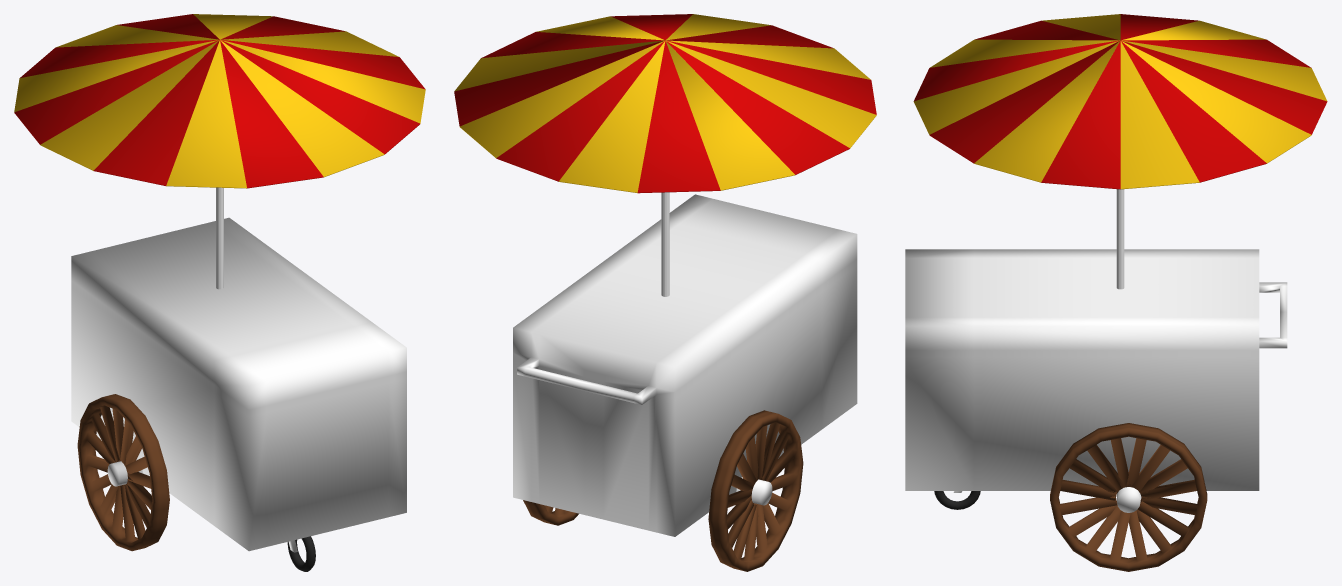
Rendered from Hot Dog Stand.fbx.
3 views of the same model, side by side, from view 1: azimuth 30°, elevation 25°; view 2: azimuth 150°, elevation 25°; view 3: azimuth 270°, elevation 25° (orthographic). The views are drawn at different scales.
Parts seen in each view (by area): view 1: Cube.001; view 2: Cube.001; view 3: Cube.001.
Boxes of the visible parts, box(x1,y1,x2,y2) form: Cube.001: box(14, 14, 425, 571); Cube.001: box(454, 14, 876, 571); Cube.001: box(905, 14, 1327, 571).
Size of the model in its own units: 527 by 679 by 537.
